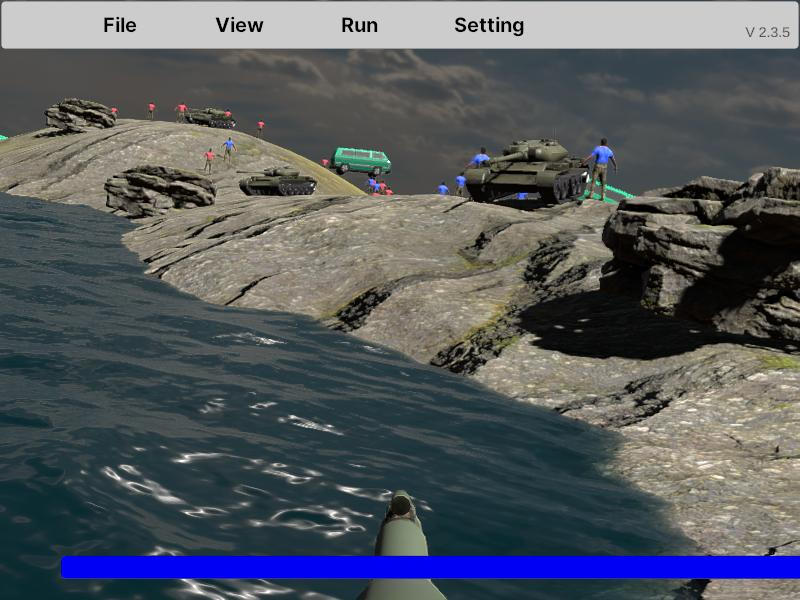Human: (585, 137, 617, 199)
Tank: (464, 138, 591, 206), (237, 167, 318, 197)
car: (330, 147, 391, 178)
